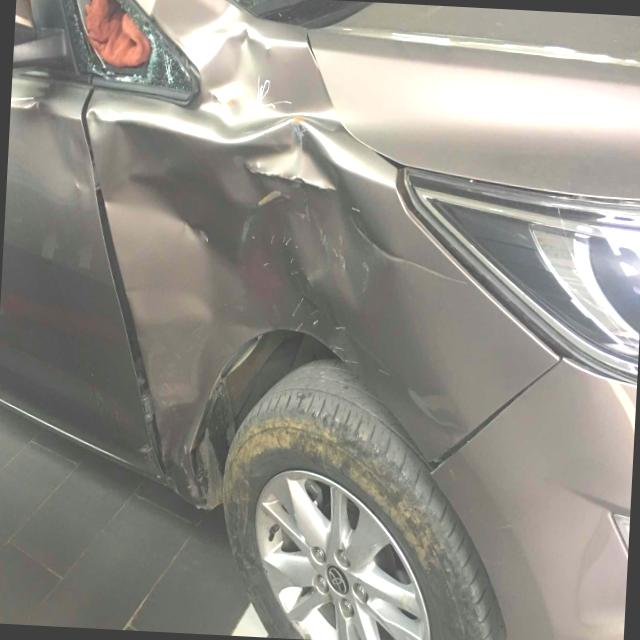Cabossage: (63, 86, 540, 506), (7, 53, 104, 187)
Dechirure: (58, 90, 190, 474), (236, 160, 356, 223)
Rayure: (284, 288, 407, 388), (239, 226, 381, 279)
